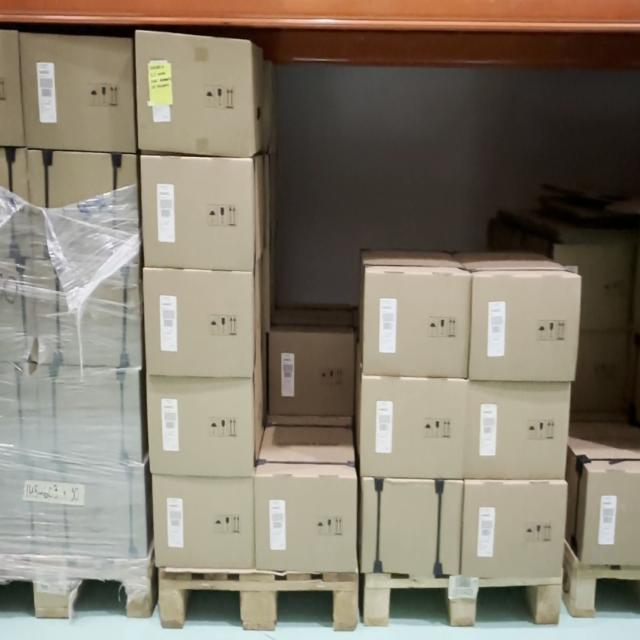box: (133, 32, 250, 152), (20, 36, 134, 150), (143, 156, 255, 269), (27, 146, 136, 258), (475, 271, 579, 379), (142, 273, 254, 371), (360, 374, 467, 476), (39, 359, 140, 463), (370, 272, 468, 379), (37, 257, 137, 360), (154, 470, 254, 571), (257, 472, 357, 566), (146, 380, 251, 468), (46, 466, 146, 558), (468, 380, 562, 476), (467, 482, 563, 576), (266, 324, 355, 421), (365, 484, 462, 572)
